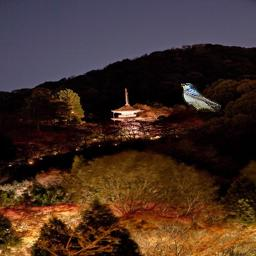Swallow: (181, 83, 221, 113)
